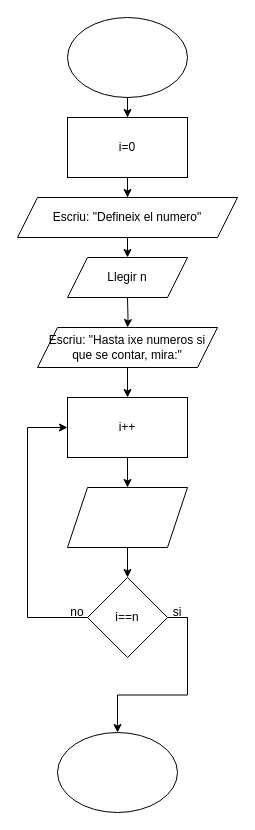
Some shapes in this 255 by 830 pixel diagram are drawn without their labels. Each missing label, with the centre of its shape:
Escriu: i: pixel 127 517
Fin: pixel 117 772
Inici: pixel 127 57
